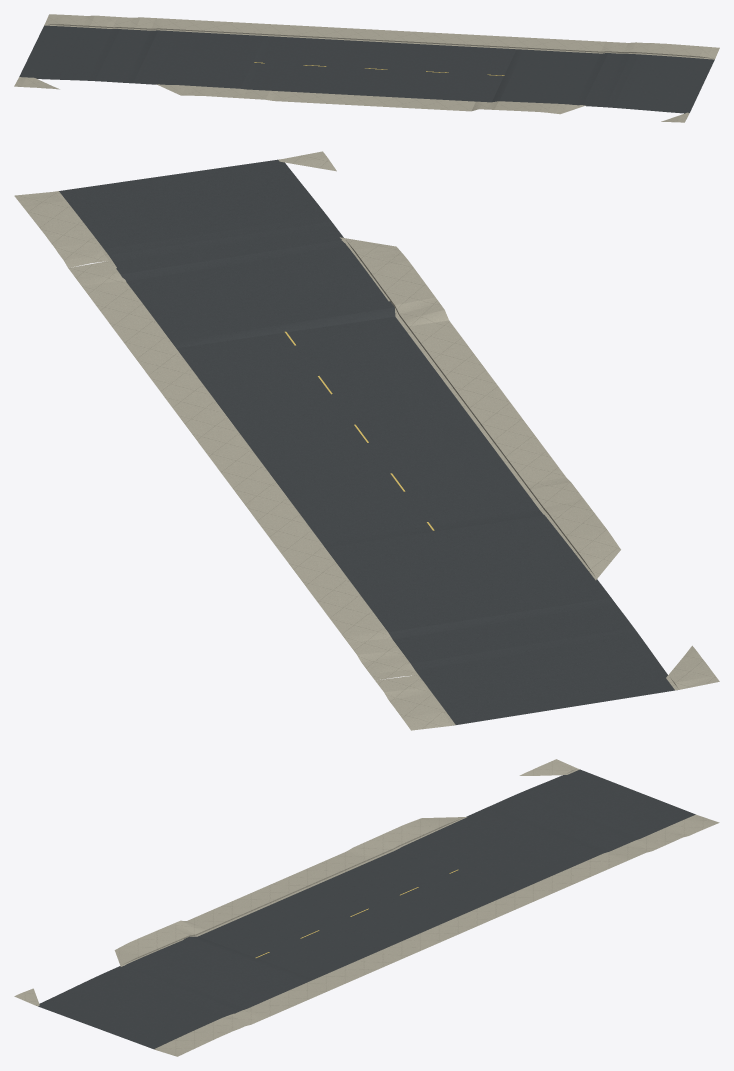
3 renders of one model, top to bottom at view 1: azimuth 30°, elevation 25°; view 2: azimuth 150°, elevation 25°; view 3: azimuth 270°, elevation 25°, orthographic. The views are drawn at different scales.
Visible parts, largest first — view 1: Carriageway, Clipped sidewalks with lowered crossing approaches, Concrete drainage margins, Raised curb faces; view 2: Carriageway, Clipped sidewalks with lowered crossing approaches, Concrete drainage margins; view 3: Carriageway, Clipped sidewalks with lowered crossing approaches, Concrete drainage margins, Raised curb faces.
Part boxes in pixels (x1,y1,x2,y2): Carriageway: (19,25,714,113); Clipped sidewalks with lowered crossing approaches: (14,14,719,122); Concrete drainage margins: (19,24,714,113); Raised curb faces: (48,24,713,58); Carriageway: (59,159,677,724); Clipped sidewalks with lowered crossing approaches: (14,151,719,730); Concrete drainage margins: (55,159,678,725); Carriageway: (38,769,695,1049); Clipped sidewalks with lowered crossing approaches: (14,759,719,1056); Concrete drainage margins: (36,768,697,1049); Raised curb faces: (121,769,575,965).
Size of the model in its own units: 80.95 by 3.29 by 74.97.
